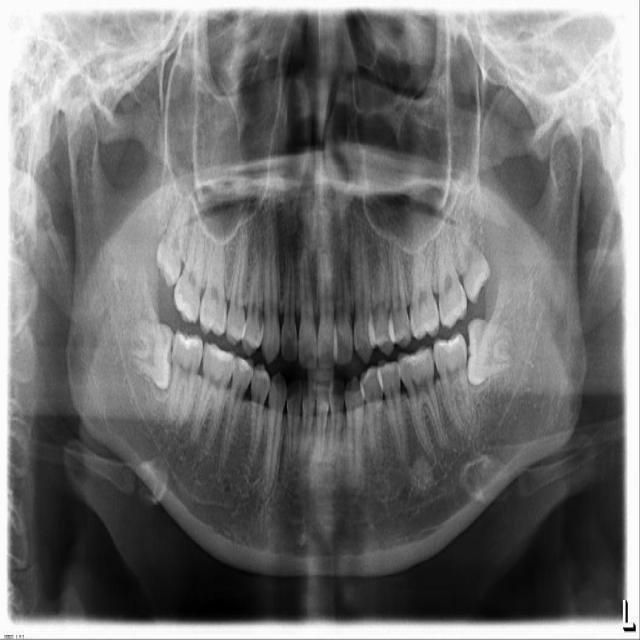3M ESPE Implant: (152, 191, 193, 288)
73: (590, 570, 606, 578)
BioHorizons Implant: (433, 224, 469, 329)
BioLife Implant: (447, 198, 496, 304)
Biomet 3i Implant: (464, 316, 514, 388)
Blue Sky Bio Implant: (432, 332, 474, 436)
Caries: (171, 220, 207, 326)
Implant: (163, 329, 205, 430)
Keystone Dental Implant: (126, 317, 177, 392)
